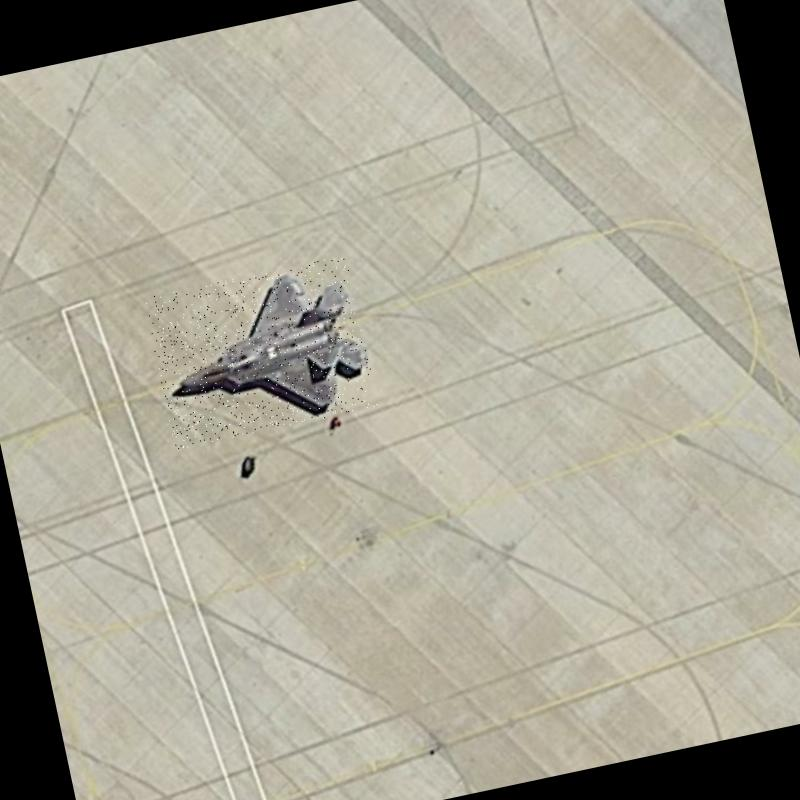A15: (143, 255, 379, 450)
